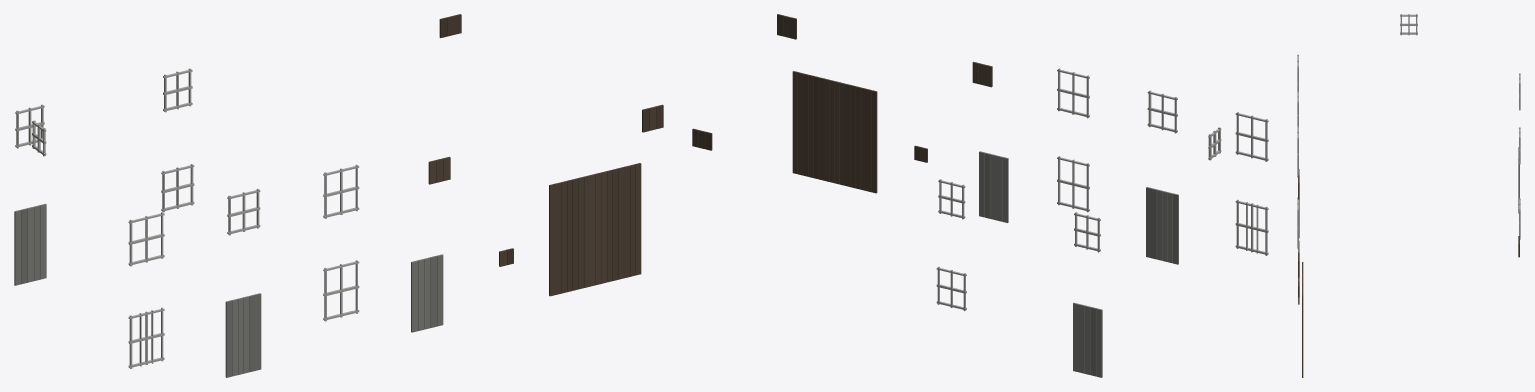
The model's file is SM_Bld_224_Wood.glb.
3 views of the same model, side by side, from view 1: azimuth 30°, elevation 25°; view 2: azimuth 150°, elevation 25°; view 3: azimuth 270°, elevation 25° (orthographic). The views are drawn at different scales.
Visible parts, largest first — view 1: SM_Bld_224_Wood; view 2: SM_Bld_224_Wood; view 3: SM_Bld_224_Wood.
Boxes of the visible parts, left/top/right/bottom form: SM_Bld_224_Wood: left=14, top=14, right=663, bottom=377; SM_Bld_224_Wood: left=692, top=14, right=1268, bottom=377; SM_Bld_224_Wood: left=1297, top=14, right=1520, bottom=377.
Bounding box in the file's own units: 15.66 × 6.15 × 7.34.
